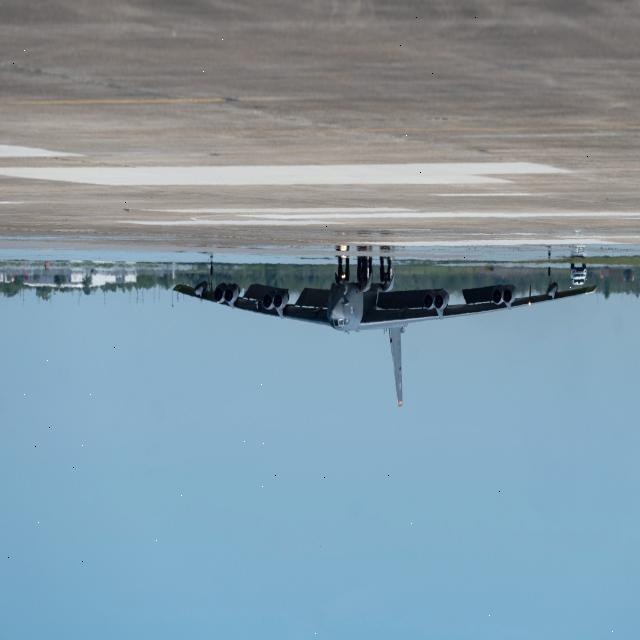B52: (147, 221, 614, 430)
